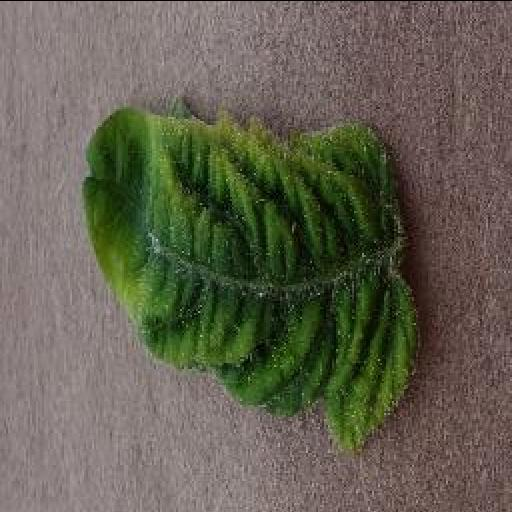disease_tomato: (78, 102, 420, 454)
